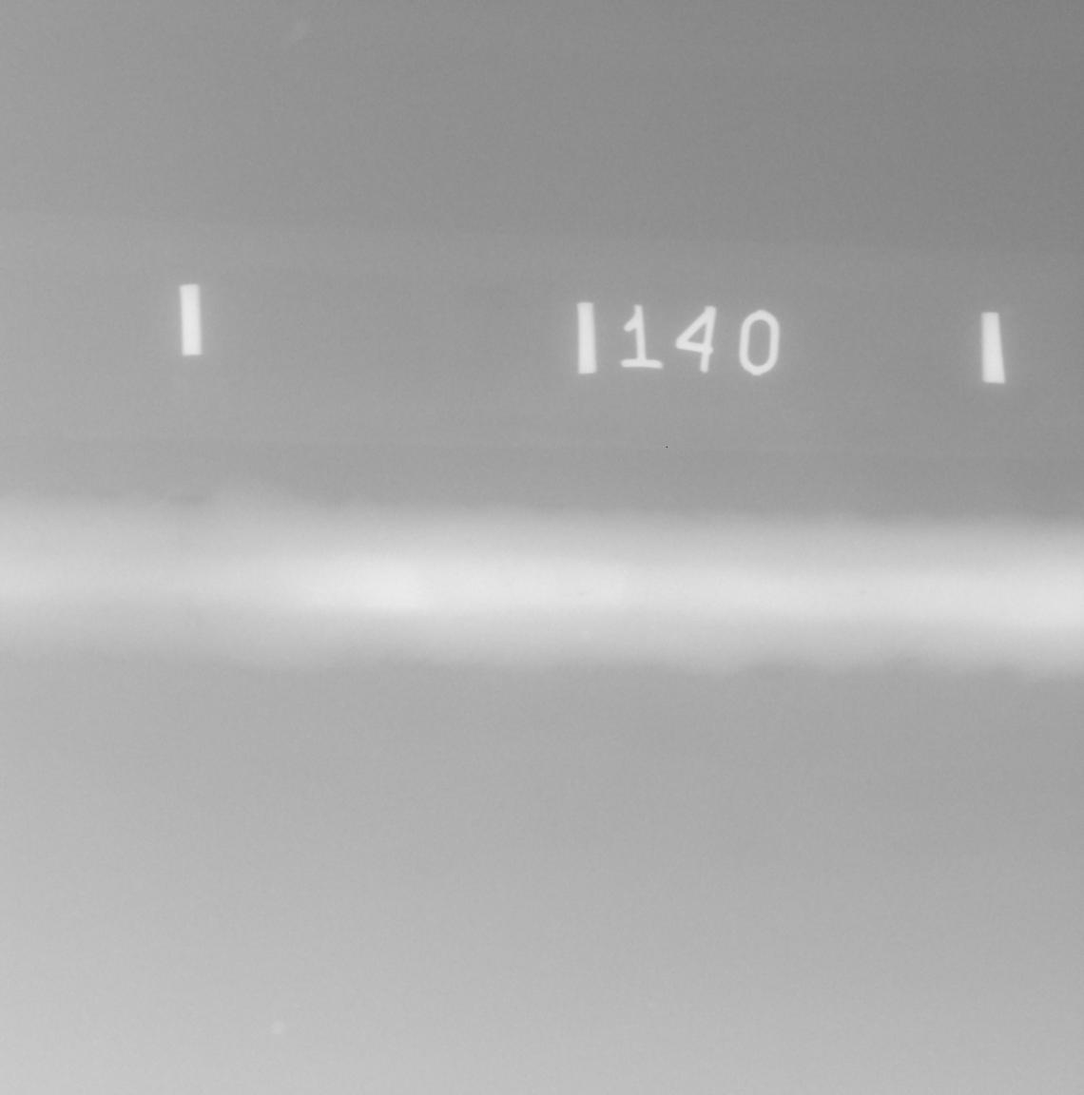Pore/Porosity: (578, 592, 585, 598), (859, 591, 867, 596), (466, 539, 473, 544)
